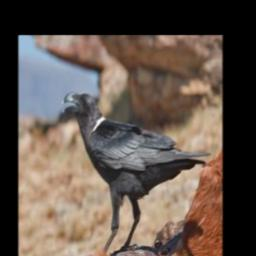Crow: (62, 87, 213, 256)
